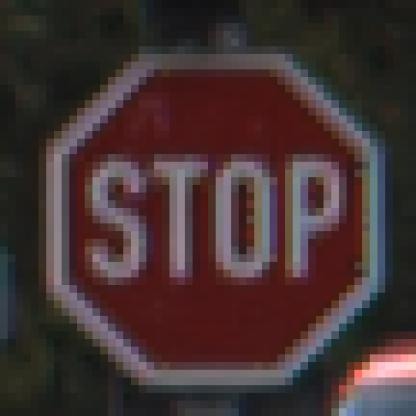stop: (38, 46, 388, 390)
